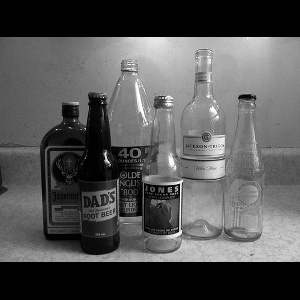emptybottle: (95, 59, 160, 226), (179, 48, 225, 241), (42, 102, 92, 240), (139, 96, 181, 253), (79, 92, 119, 255), (224, 95, 266, 241)
